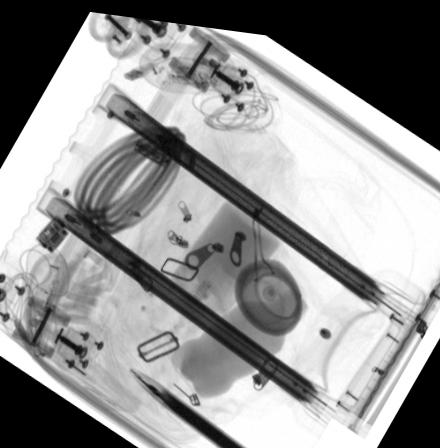Powerbank: (129, 362, 255, 448)
